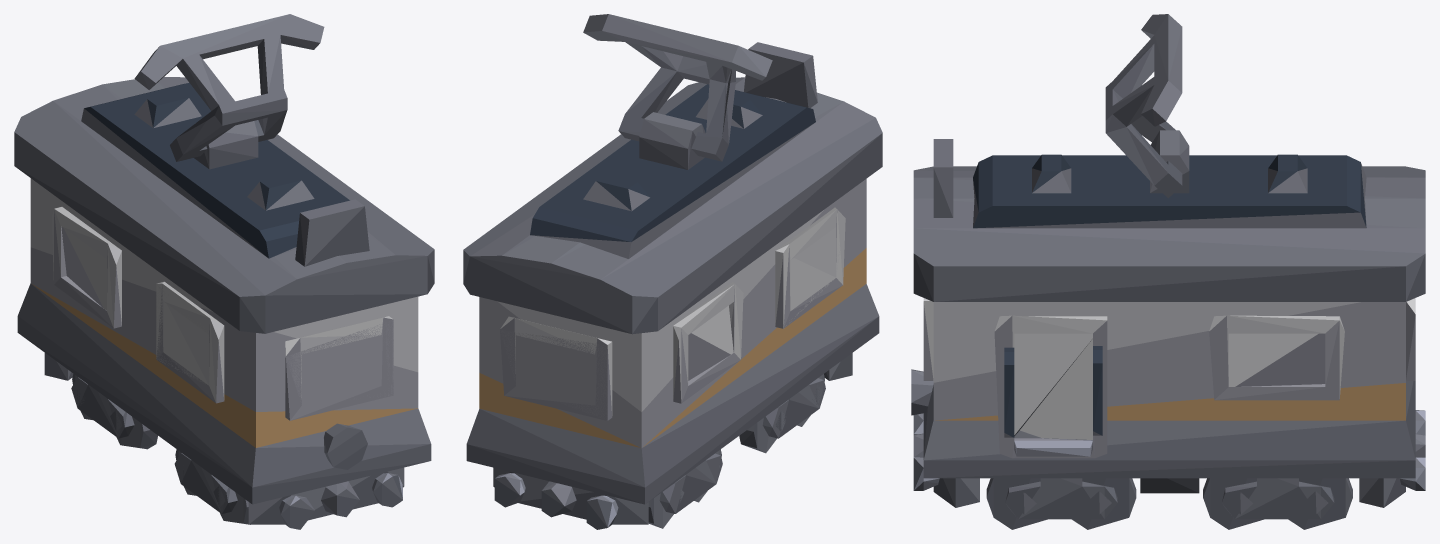
Rendered from tram.classic.glb.
3 renders of one model, left to right at view 1: azimuth 30°, elevation 25°; view 2: azimuth 150°, elevation 25°; view 3: azimuth 270°, elevation 25°, orthographic. The views are drawn at different scales.
Parts seen in each view (by area): view 1: near, far; view 2: near, far; view 3: near, far.
Part boxes in pixels (<box>): near: <box>14,14,434,529</box>; far: <box>61,106,393,405</box>; near: <box>463,14,882,529</box>; far: <box>501,69,844,420</box>; near: <box>911,14,1425,529</box>; far: <box>973,212,1347,439</box>.
Size of the model in its own units: 2.3 by 4.64 by 4.81.
